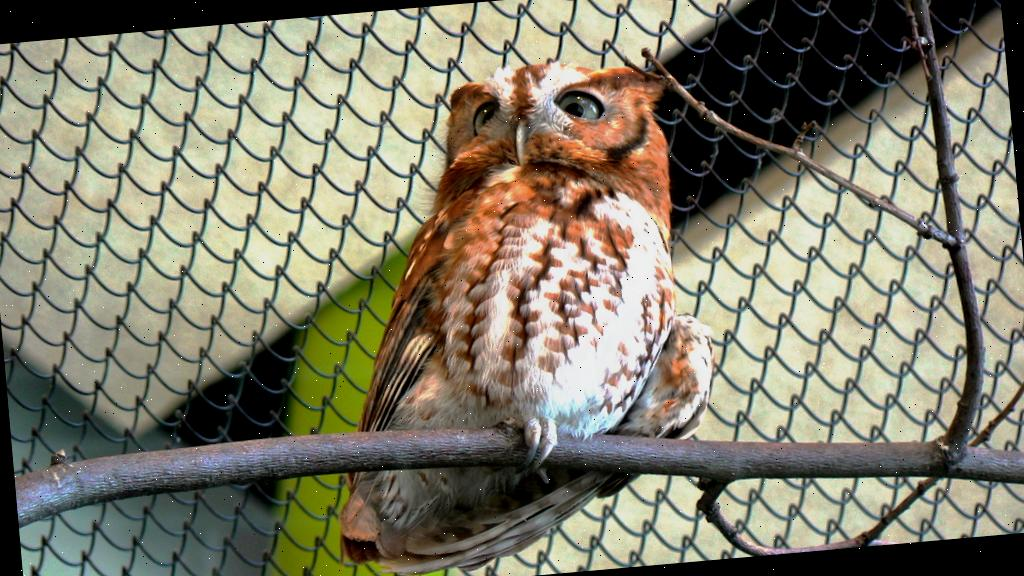Owl: (309, 55, 700, 547)
